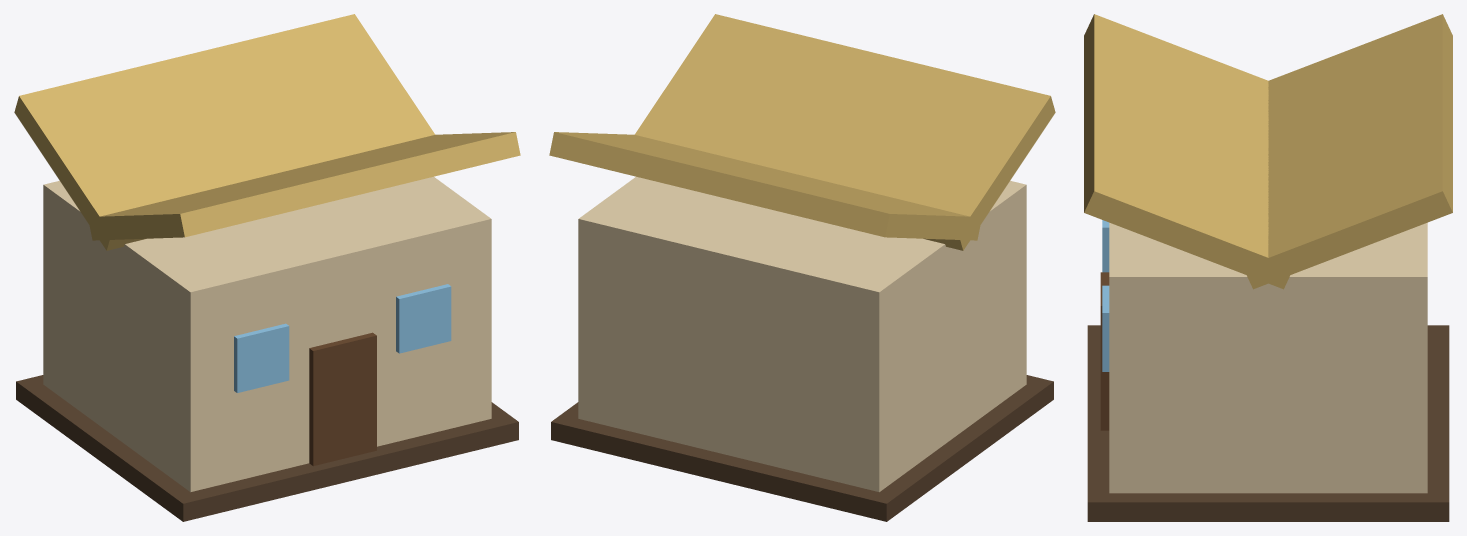
Rendered from house_yellow.glb.
The picture shows the model from 3 angles, left to right: view 1: azimuth 30°, elevation 25°; view 2: azimuth 150°, elevation 25°; view 3: azimuth 270°, elevation 25°; orthographic projection. The views are drawn at different scales.
Visible parts, largest first — view 1: house_yellow; view 2: house_yellow; view 3: house_yellow.
Part boxes in pixels (box(x1,y1,x2,y2)): house_yellow: box(14, 14, 520, 521); house_yellow: box(549, 14, 1055, 521); house_yellow: box(1084, 14, 1452, 521).
Bounding box in the file's own units: 2.9 × 2.52 × 2.55.
